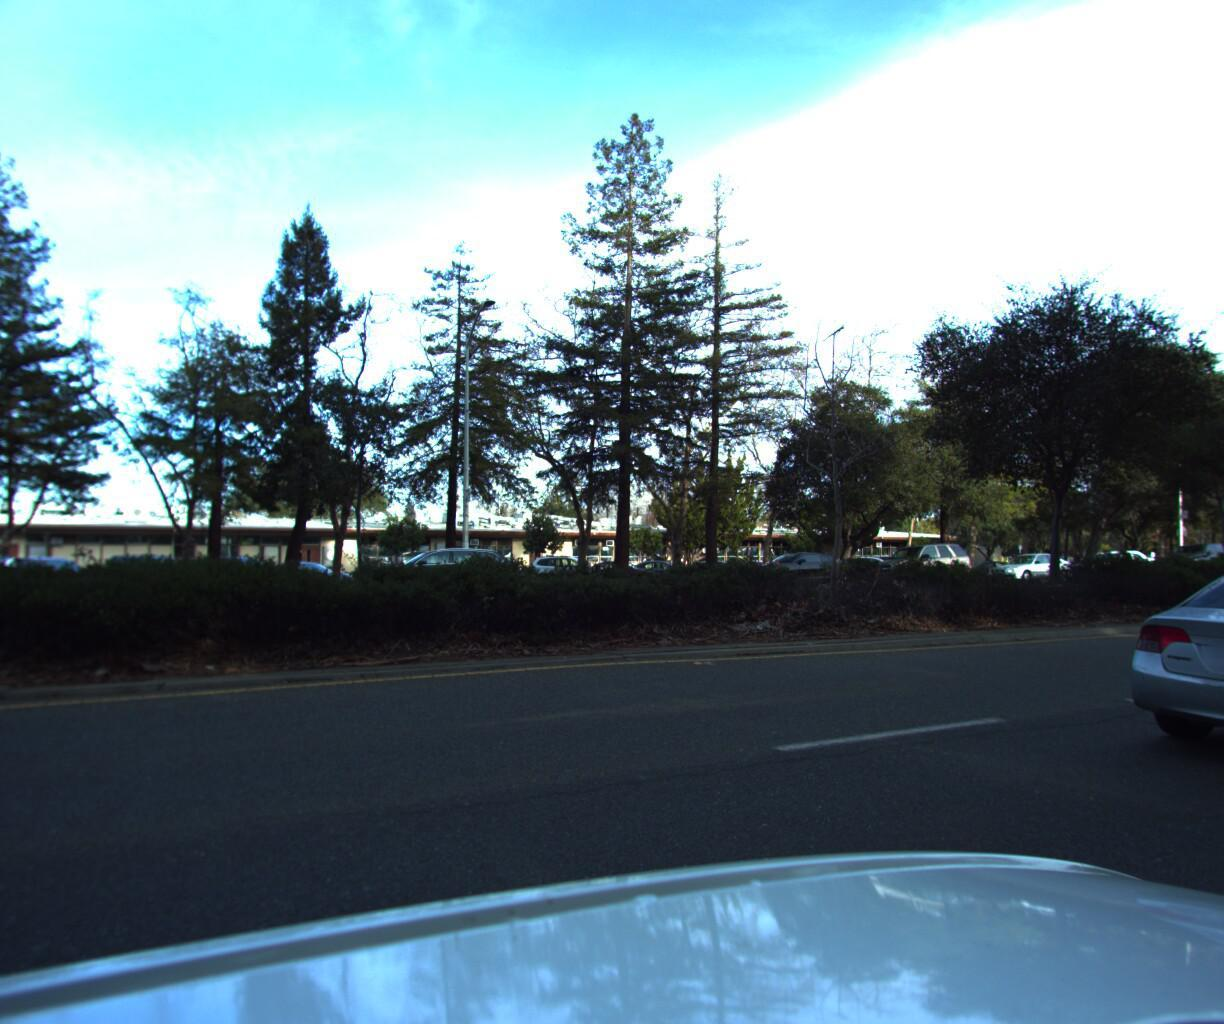car: (1085, 546, 1224, 816), (343, 544, 526, 603), (726, 549, 861, 593), (858, 539, 976, 587), (1063, 543, 1160, 579), (977, 548, 1075, 581), (0, 545, 34, 623)
